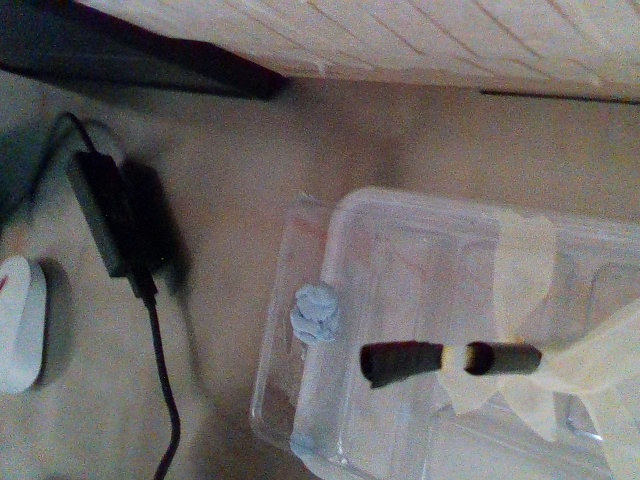test_strip: (358, 339, 471, 392)
